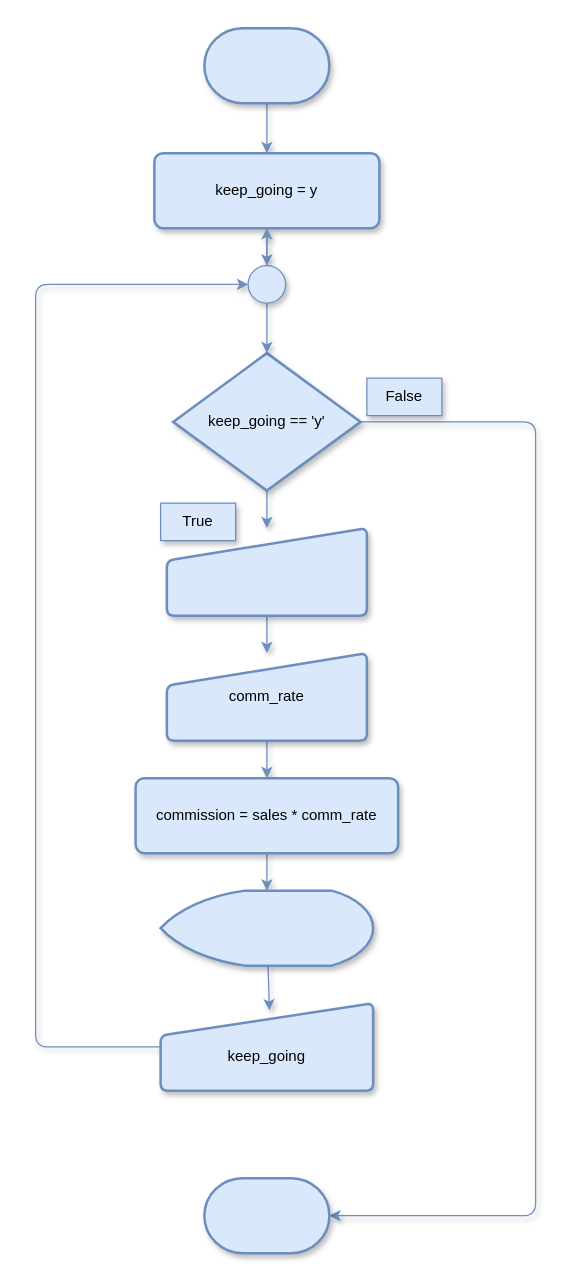
Image size: 575x1284. Some labels were removed from this diagram. The centre of each missing label's shape, as x and y in pixels:
End: the point at 268,1216
sales: the point at 267,573
Start: the point at 268,66
The commission is: the point at 267,929
